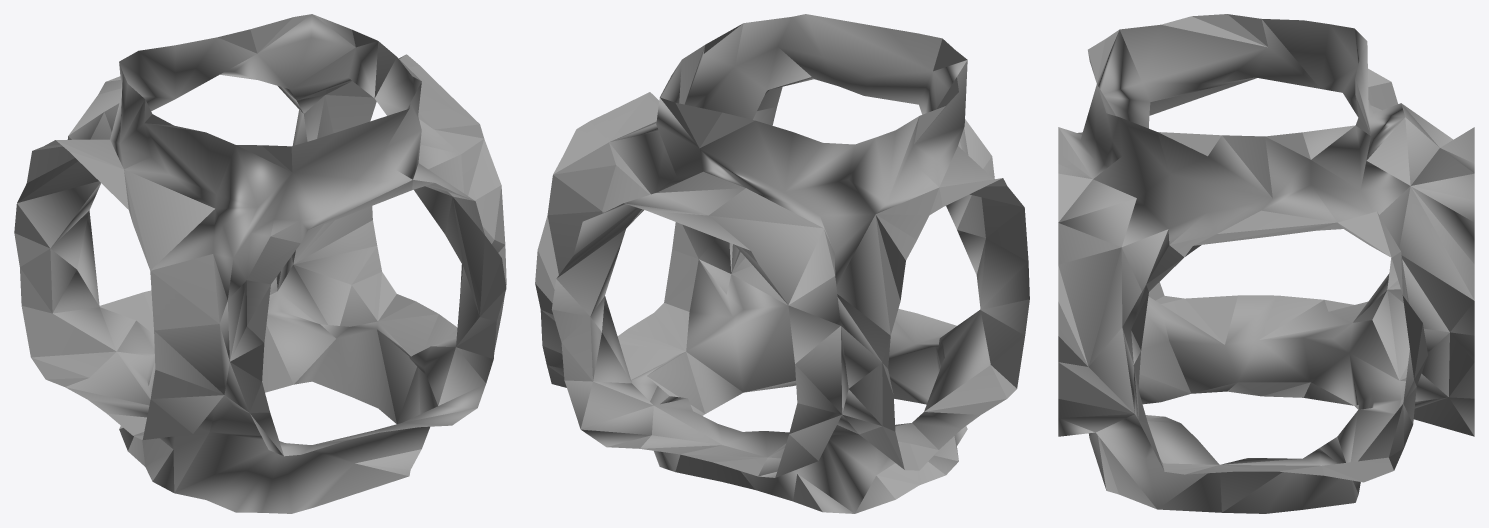
The model's file is 3DCrossConnector.fbx.
3 views of the same model, side by side, from view 1: azimuth 30°, elevation 25°; view 2: azimuth 150°, elevation 25°; view 3: azimuth 270°, elevation 25° (orthographic). The views are drawn at different scales.
Parts seen in each view (by area): view 1: 3DCrossConnector; view 2: 3DCrossConnector; view 3: 3DCrossConnector.
Part boxes in pixels (left/top/right/bottom): 3DCrossConnector: left=14, top=14, right=506, bottom=513; 3DCrossConnector: left=535, top=14, right=1029, bottom=513; 3DCrossConnector: left=1058, top=14, right=1474, bottom=513.
Bounding box in the file's own units: 500 × 500 × 500.
